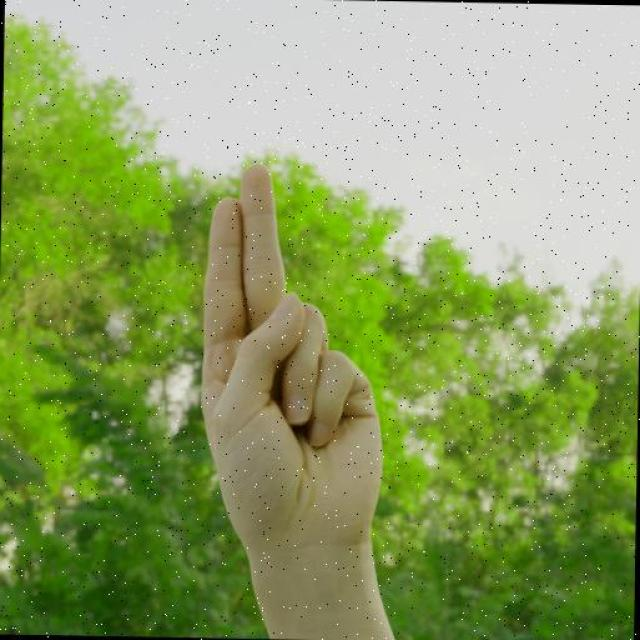U: (176, 164, 397, 551)
